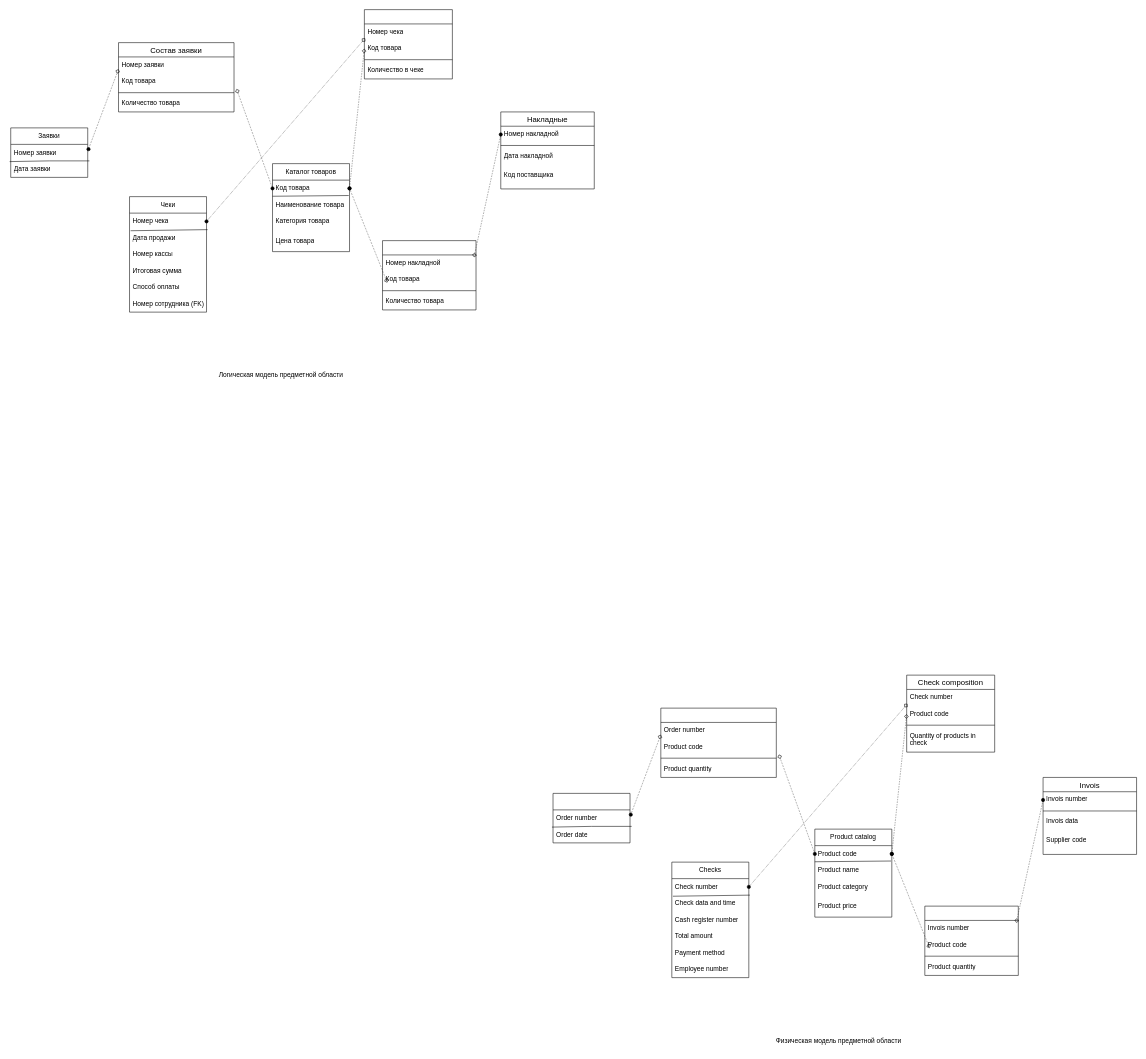
Image size: 1146x1059. Some labels were removed from this diagram. The shapes that lost their labels are listed below. From the top down, each one's box as (x1, y1, x2, y2) in pixels, then its label:
(364, 9, 452, 79): Состав чека
(382, 240, 476, 310): Состав накладной
(660, 708, 776, 777): Order composition
(552, 793, 630, 843): Orders
(924, 906, 1018, 975): Invois composition
